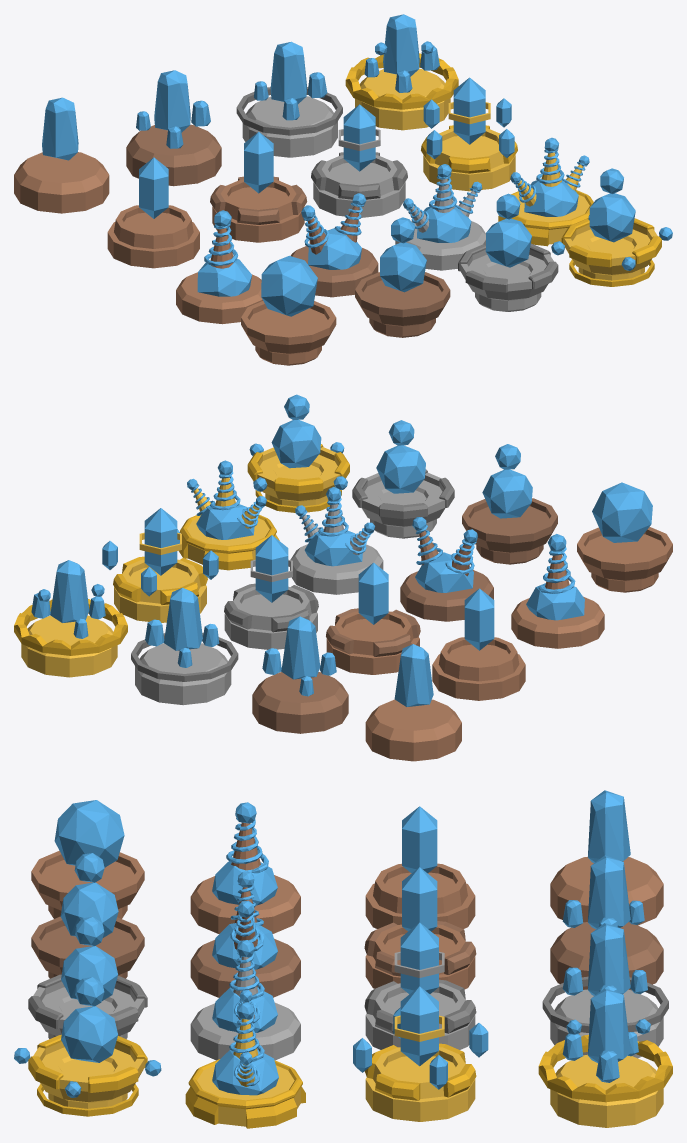
The model's file is mage_towers_blue_top.fbx.
3 views of the same model, one above another, from view 1: azimuth 30°, elevation 25°; view 2: azimuth 150°, elevation 25°; view 3: azimuth 270°, elevation 25° (orthographic). The views are drawn at different scales.
Visible parts, largest first — view 1: stand, body_9, body_11, body_10, body_3, body, body_2, body_4, stand_2, body_12, stand_3, stand_4 (+24 smaller); view 2: stand, body_9, stand_2, body_10, body, body_11, body_3, body_2, stand_3, body_4, body_12, stand_4 (+24 smaller); view 3: body_12, body_4, body_8, stand_4, body_11, body_9, body_10, body_3, body, stand_2, stand, sphere (+35 smaller).
Boxes of the visible parts, <box> form: stand: <box>14,152,109,213</box>; body_9: <box>107,205,199,268</box>; body_11: <box>311,152,407,217</box>; body_10: <box>210,176,307,242</box>; body_3: <box>458,243,558,311</box>; body: <box>241,301,336,365</box>; body_2: <box>355,272,450,337</box>; body_4: <box>561,218,661,280</box>; stand_2: <box>126,124,221,186</box>; body_12: <box>421,125,517,191</box>; stand_3: <box>242,96,337,157</box>; stand_4: <box>355,69,450,130</box>; stand: <box>365,699,461,761</box>; body_9: <box>432,637,525,700</box>; stand_2: <box>252,672,348,733</box>; body_10: <box>326,608,420,674</box>; body: <box>577,527,672,592</box>; body_11: <box>224,583,318,649</box>; body_3: <box>352,469,454,538</box>; body_2: <box>462,498,557,564</box>; stand_3: <box>135,643,231,705</box>; body_4: <box>247,444,349,506</box>; body_12: <box>113,556,207,622</box>; stand_4: <box>21,615,117,677</box>; body_12: <box>364,1043,476,1121</box>; body_4: <box>28,1034,147,1108</box>; body_8: <box>185,1059,305,1128</box>; stand_4: <box>550,1054,663,1127</box>; body_11: <box>364,979,476,1049</box>; body_9: <box>365,863,475,928</box>; body_10: <box>364,921,476,989</box>; body_3: <box>28,974,147,1039</box>; body: <box>31,850,144,918</box>; stand_2: <box>550,922,663,990</box>; stand: <box>550,856,663,925</box>; sphere: <box>54,800,124,867</box>.
Bounding box in the file's own units: 1133 × 265 × 1263.
1 material, 1 textured.
